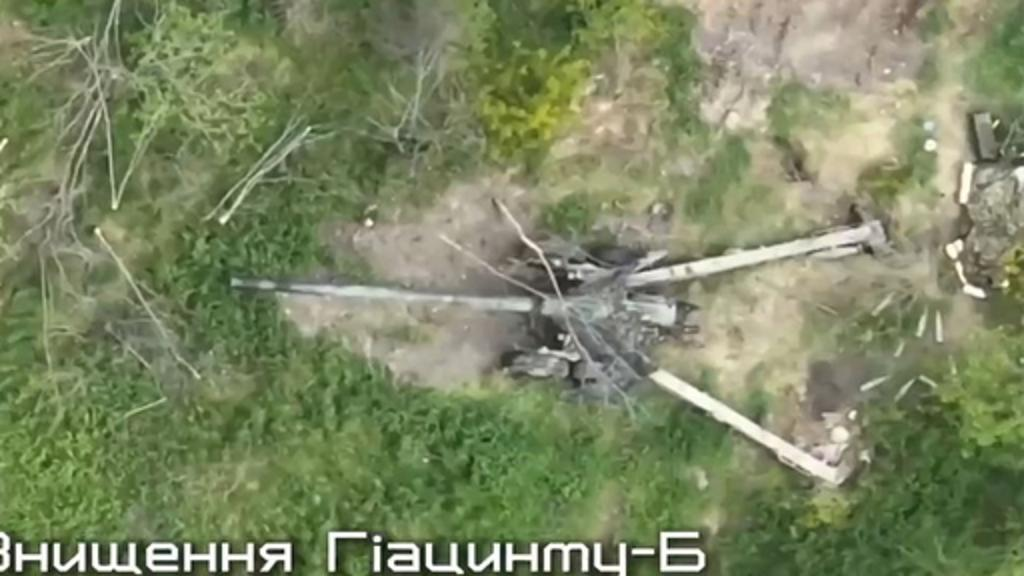ART: (224, 218, 888, 488)
